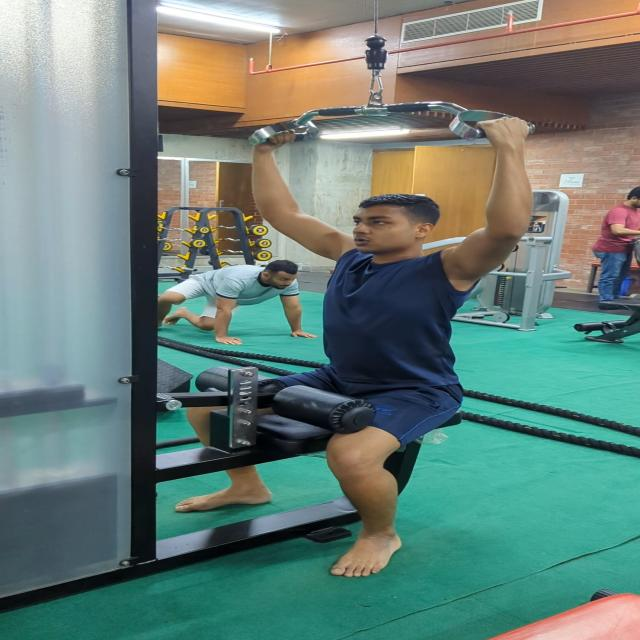Normal_LatPulldown: (169, 105, 542, 580)
